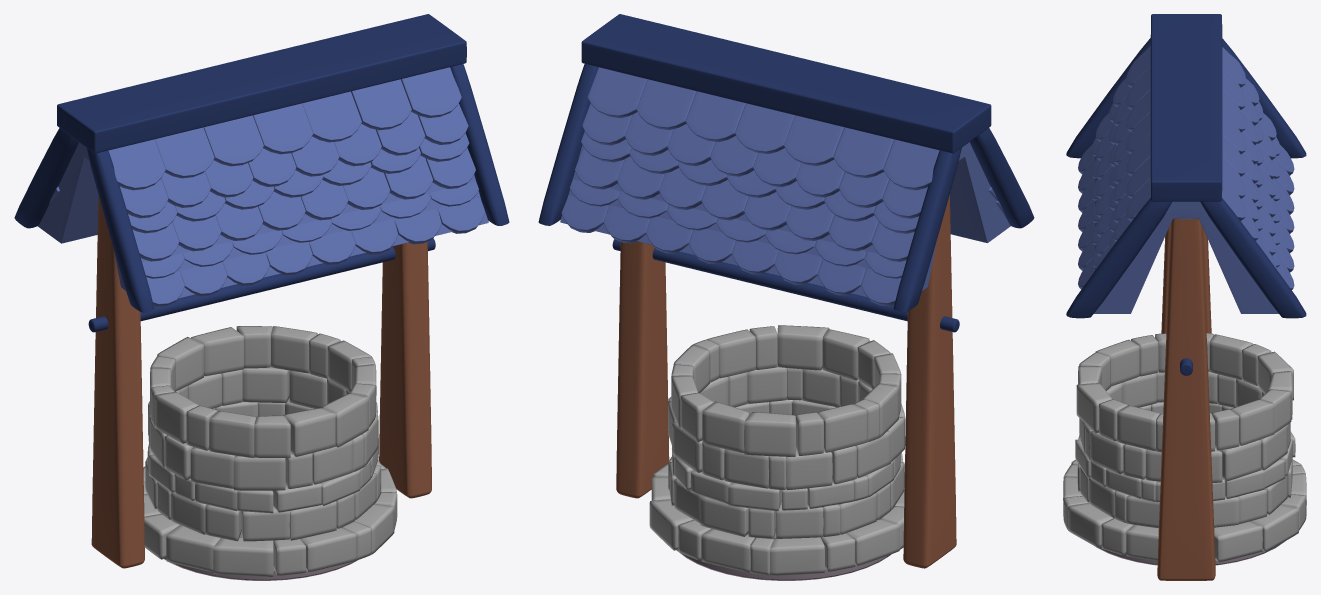
File: wishingWell.fbx
3 renders of one model, left to right at view 1: azimuth 30°, elevation 25°; view 2: azimuth 150°, elevation 25°; view 3: azimuth 270°, elevation 25°, orthographic. The views are drawn at different scales.
Visible parts, largest first — view 1: polySurface276; view 2: polySurface276; view 3: polySurface276.
Boxes of the visible parts, x1,y1,x2,y2 form: polySurface276: (14, 14, 509, 580); polySurface276: (538, 14, 1034, 580); polySurface276: (1063, 14, 1306, 580).
Size of the model in its own units: 13.87 by 16.28 by 8.49.
